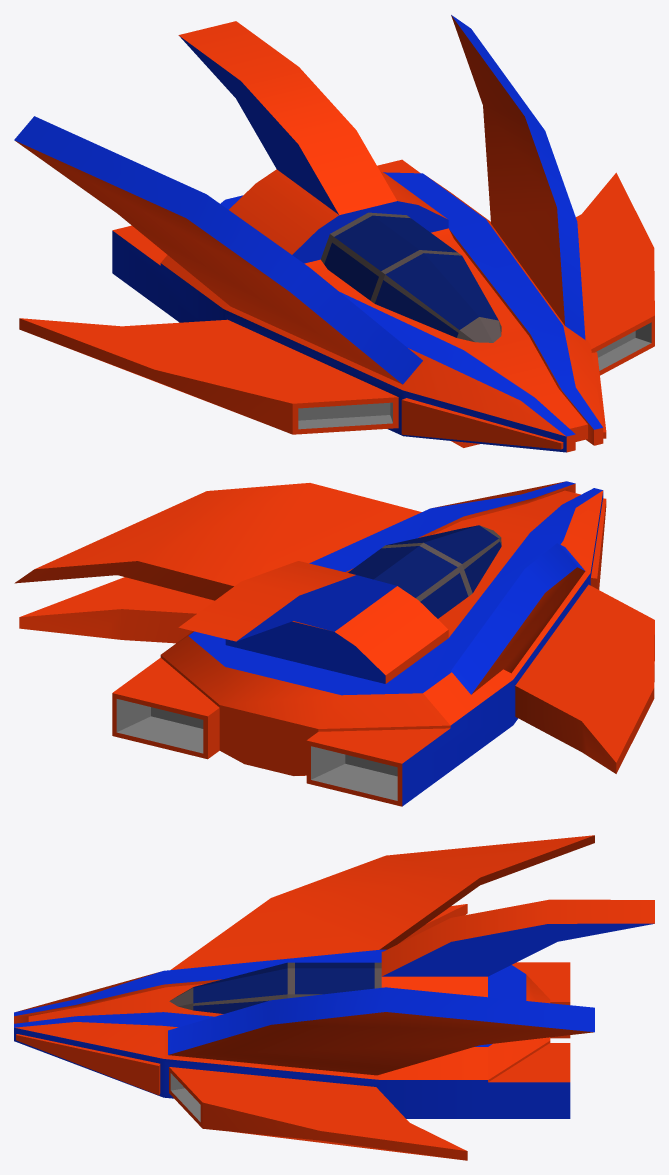
File: Racer.fbx
3 views of the same model, one above another, from view 1: azimuth 30°, elevation 25°; view 2: azimuth 150°, elevation 25°; view 3: azimuth 270°, elevation 25° (orthographic). The views are drawn at different scales.
Parts seen in each view (by area): view 1: Cube, Cylinder; view 2: Cube, Cylinder; view 3: Cube, Cylinder.
Part boxes in pixels (bbox=[...]): Cube: bbox=[14, 15, 654, 452]; Cylinder: bbox=[321, 212, 501, 342]; Cube: bbox=[14, 481, 654, 806]; Cylinder: bbox=[348, 525, 501, 618]; Cube: bbox=[14, 835, 654, 1160]; Cylinder: bbox=[169, 962, 381, 1013].
Size of the model in its own units: 1099 by 351 by 1204.
